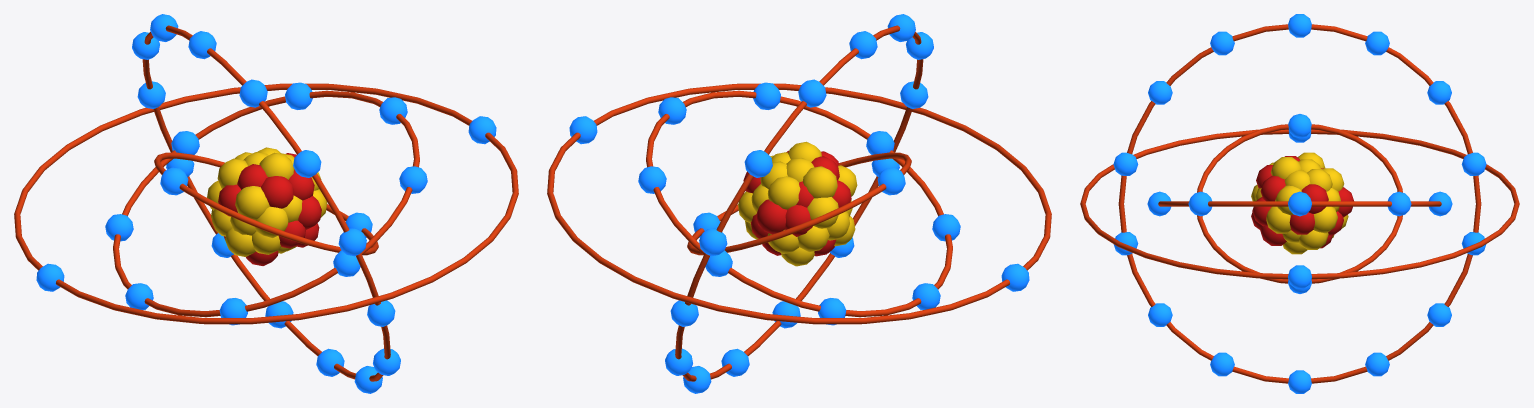
File: Atom_Fe.fbx
3 renders of one model, left to right at view 1: azimuth 30°, elevation 25°; view 2: azimuth 150°, elevation 25°; view 3: azimuth 270°, elevation 25°, orthographic. The views are drawn at different scales.
Parts seen in each view (by area): view 1: Fe_Orbit_3, Fe_Inti_Atom, Fe_Orbit_4, Fe_Orbit_2, Fe_Orbit_1; view 2: Fe_Orbit_3, Fe_Inti_Atom, Fe_Orbit_4, Fe_Orbit_2, Fe_Orbit_1; view 3: Fe_Orbit_3, Fe_Inti_Atom, Fe_Orbit_4, Fe_Orbit_2, Fe_Orbit_1.
Part boxes in pixels (box(x1,y1,x2,y2)): Fe_Orbit_3: box(132, 14, 400, 393); Fe_Inti_Atom: box(207, 147, 327, 265); Fe_Orbit_4: box(14, 83, 518, 324); Fe_Orbit_2: box(105, 82, 427, 325); Fe_Orbit_1: box(154, 152, 378, 255); Fe_Orbit_3: box(665, 14, 933, 393); Fe_Inti_Atom: box(738, 141, 857, 266); Fe_Orbit_4: box(547, 83, 1051, 324); Fe_Orbit_2: box(638, 82, 960, 325); Fe_Orbit_1: box(687, 152, 911, 255); Fe_Orbit_3: box(1113, 14, 1486, 393); Fe_Inti_Atom: box(1251, 152, 1353, 254); Fe_Orbit_4: box(1080, 129, 1519, 288); Fe_Orbit_2: box(1147, 191, 1452, 216); Fe_Orbit_1: box(1197, 114, 1402, 293).
Bounding box in the file's own units: 2.02 × 1.58 × 1.94.
